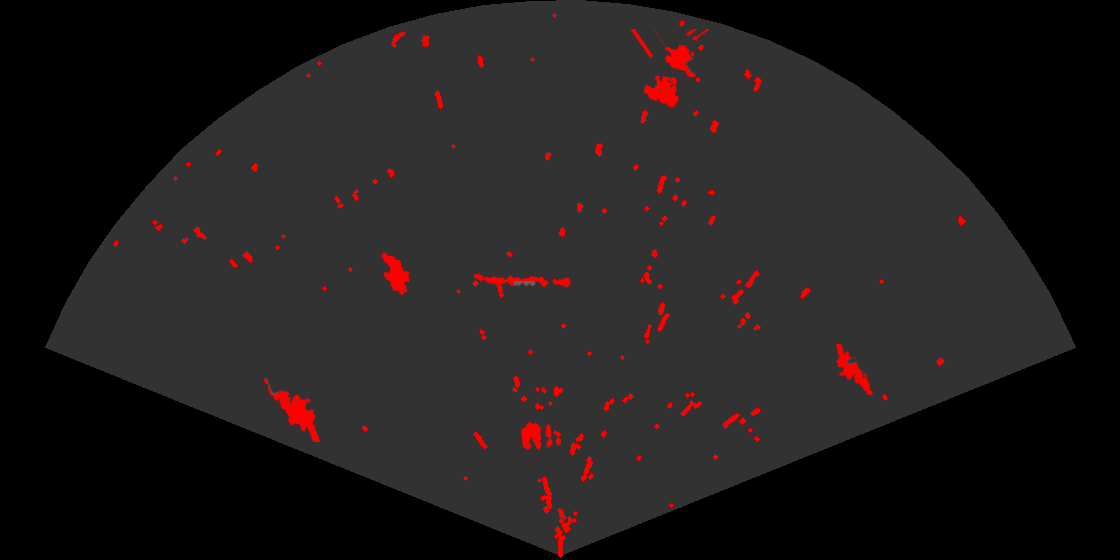AUV: (380, 251, 411, 296)
ball: (519, 420, 554, 452)
cage: (629, 29, 711, 109)
chain: (472, 272, 571, 290)
frogman: (262, 376, 322, 442), (834, 344, 874, 398)
